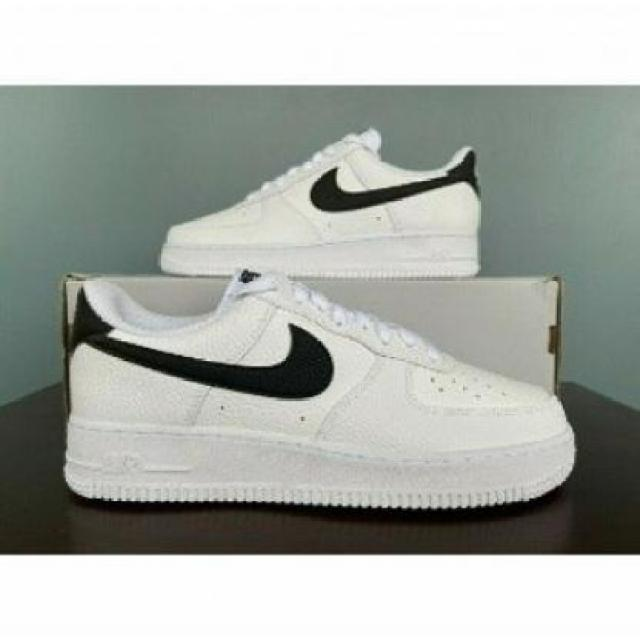Nike: (83, 320, 332, 396), (309, 164, 457, 212)
